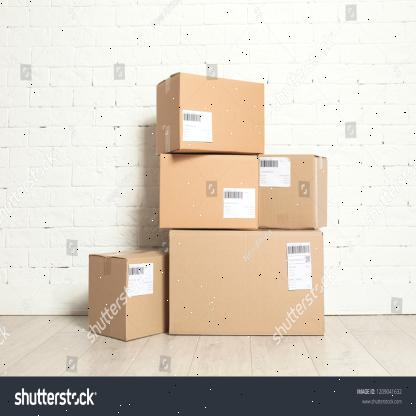box: (168, 230, 324, 336), (160, 154, 258, 230), (180, 74, 264, 153), (259, 154, 317, 230), (88, 252, 126, 342)
